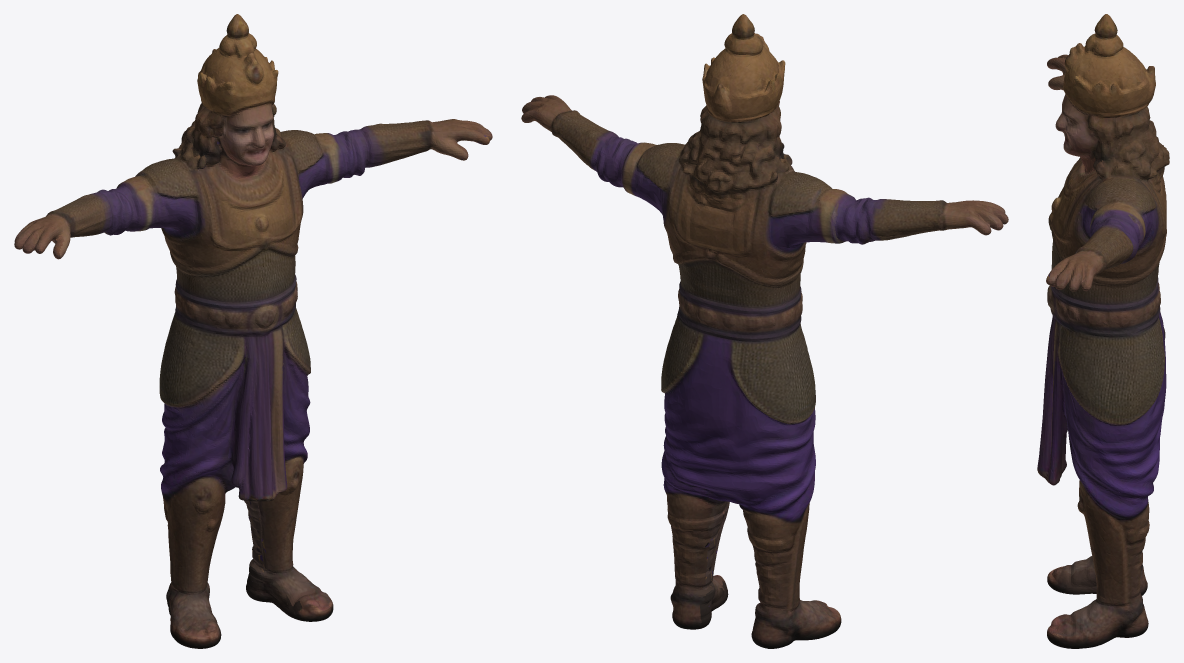
File: king1.glb
The picture shows the model from 3 angles, left to right: view 1: azimuth 30°, elevation 25°; view 2: azimuth 150°, elevation 25°; view 3: azimuth 270°, elevation 25°; orthographic projection. The views are drawn at different scales.
Parts seen in each view (by area): view 1: world; view 2: world; view 3: world.
Boxes of the visible parts, x1=… form: world: x1=14, y1=14, x2=492, y2=648; world: x1=521, y1=14, x2=1008, y2=648; world: x1=1037, y1=14, x2=1169, y2=648.
Size of the model in its own units: 1.64 by 1.99 by 0.3994.
Materials: 1 (1 with a texture image).
